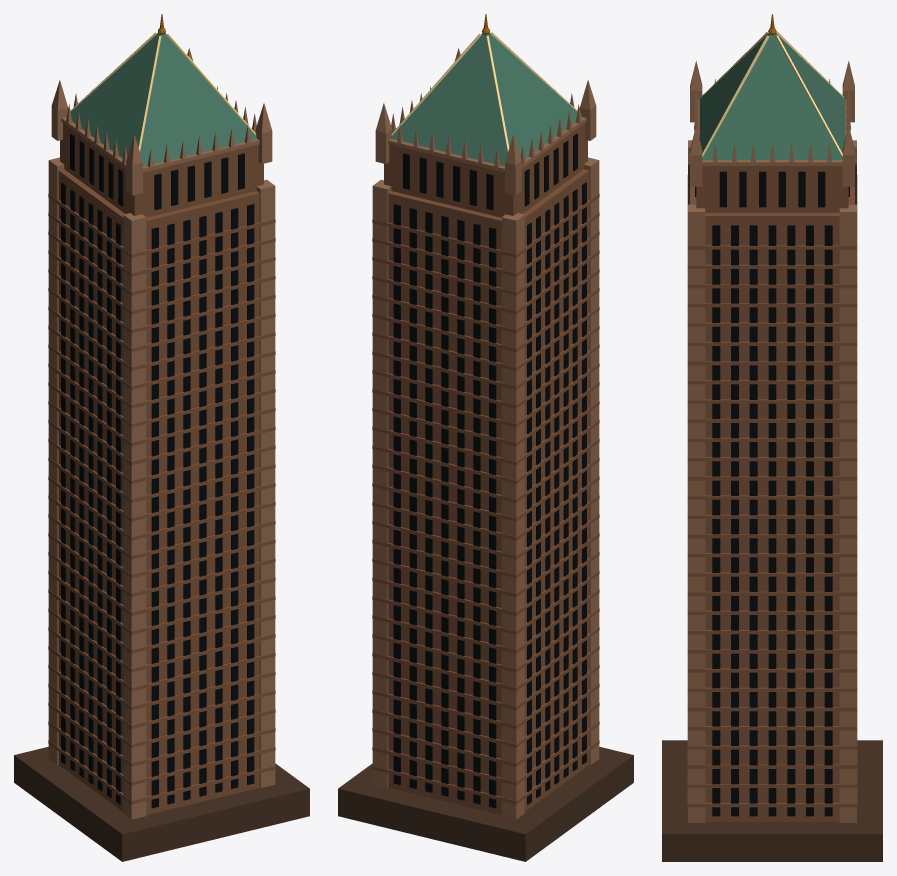
Rendered from atl-one-atlantic-center.glb.
The picture shows the model from 3 angles, left to right: view 1: azimuth 30°, elevation 25°; view 2: azimuth 150°, elevation 25°; view 3: azimuth 270°, elevation 25°; orthographic projection. The views are drawn at different scales.
Visible parts, largest first — view 1: oac-tower, oac-roof, oac-crown-glow; view 2: oac-tower, oac-roof, oac-crown-glow; view 3: oac-tower, oac-roof, oac-crown-glow.
Part boxes in pixels (<box>): oac-tower: <box>14,48,309,861</box>; oac-roof: <box>66,14,256,166</box>; oac-crown-glow: <box>67,32,256,151</box>; oac-tower: <box>338,48,633,861</box>; oac-roof: <box>391,14,581,166</box>; oac-crown-glow: <box>391,32,580,151</box>; oac-tower: <box>662,61,882,861</box>; oac-roof: <box>699,14,845,159</box>; oac-crown-glow: <box>701,31,843,157</box>.
Size of the model in its own units: 64 by 256 by 64.
